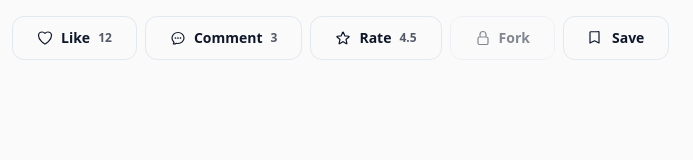
Test case: publication action toolbar — authenticated (#67) › toggles Like: PUT first, count refresh via invalidation, DELETE on the second click
Click the button "Like 12" at (74, 38), box x1=12 y1=16 x2=137 y2=60
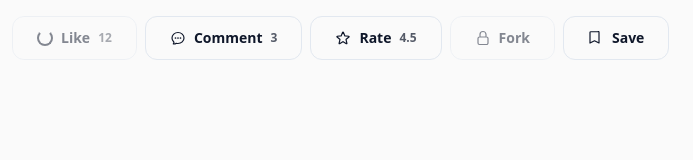
Result: the button "Like 12" is disabled
Click the button "Like 12" at (74, 38), box x1=12 y1=16 x2=137 y2=60
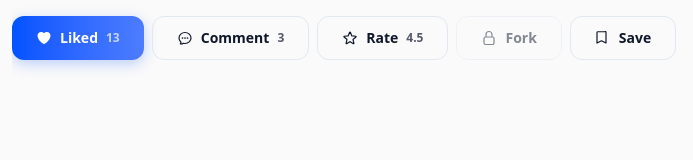
Result: the button "Liked 13" is pressed
Click the button "Liked 13" at (78, 38), box x1=12 y1=16 x2=144 y2=60
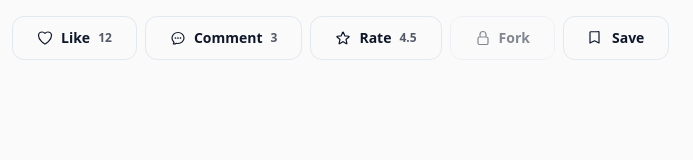
Result: the button "Like 12" is shown at x1=12 y1=16 x2=137 y2=60
